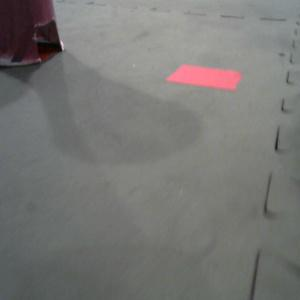middle: (1, 1, 65, 66)
